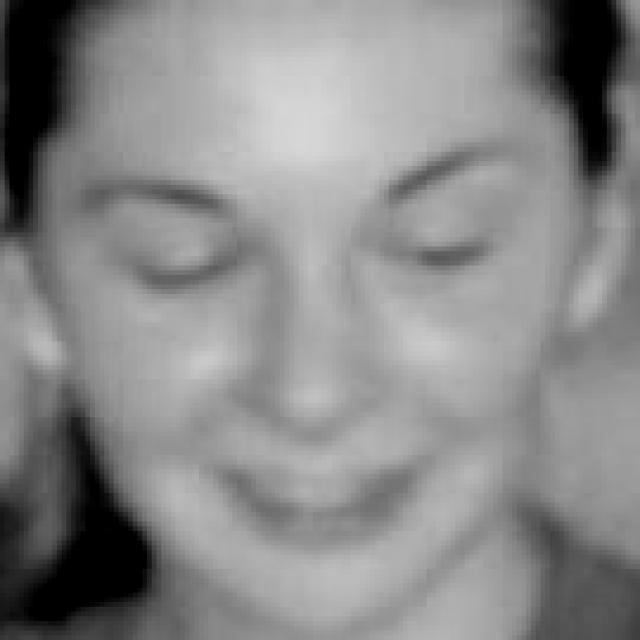real: (19, 16, 609, 632), (102, 172, 524, 296)
